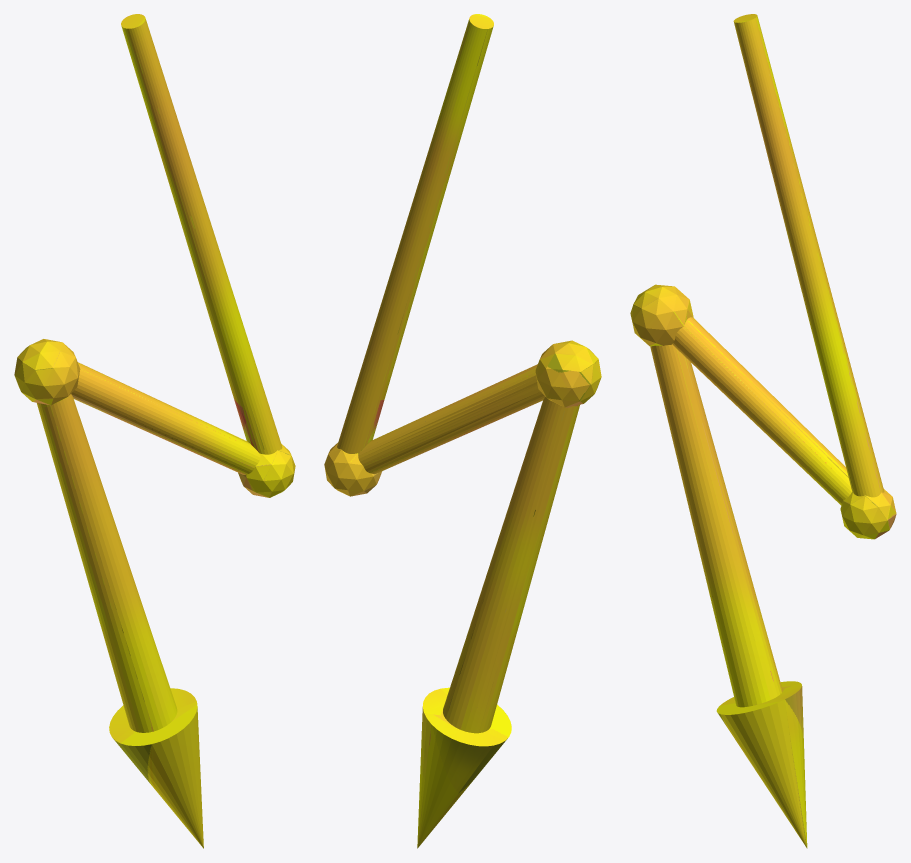
File: Coins_electric.dae
3 views of the same model, side by side, from view 1: azimuth 30°, elevation 25°; view 2: azimuth 150°, elevation 25°; view 3: azimuth 330°, elevation 25° (orthographic). The views are drawn at different scales.
Parts seen in each view (by area): view 1: Coins_electric; view 2: Coins_electric; view 3: Coins_electric.
Boxes of the visible parts, box(x1,y1,x2,y2) form: Coins_electric: box(14, 14, 295, 848); Coins_electric: box(324, 14, 601, 848); Coins_electric: box(630, 14, 896, 848).
Size of the model in its own units: 0.1193 by 0.0357 by 0.3584.
Materials: 1 (1 with a texture image).
